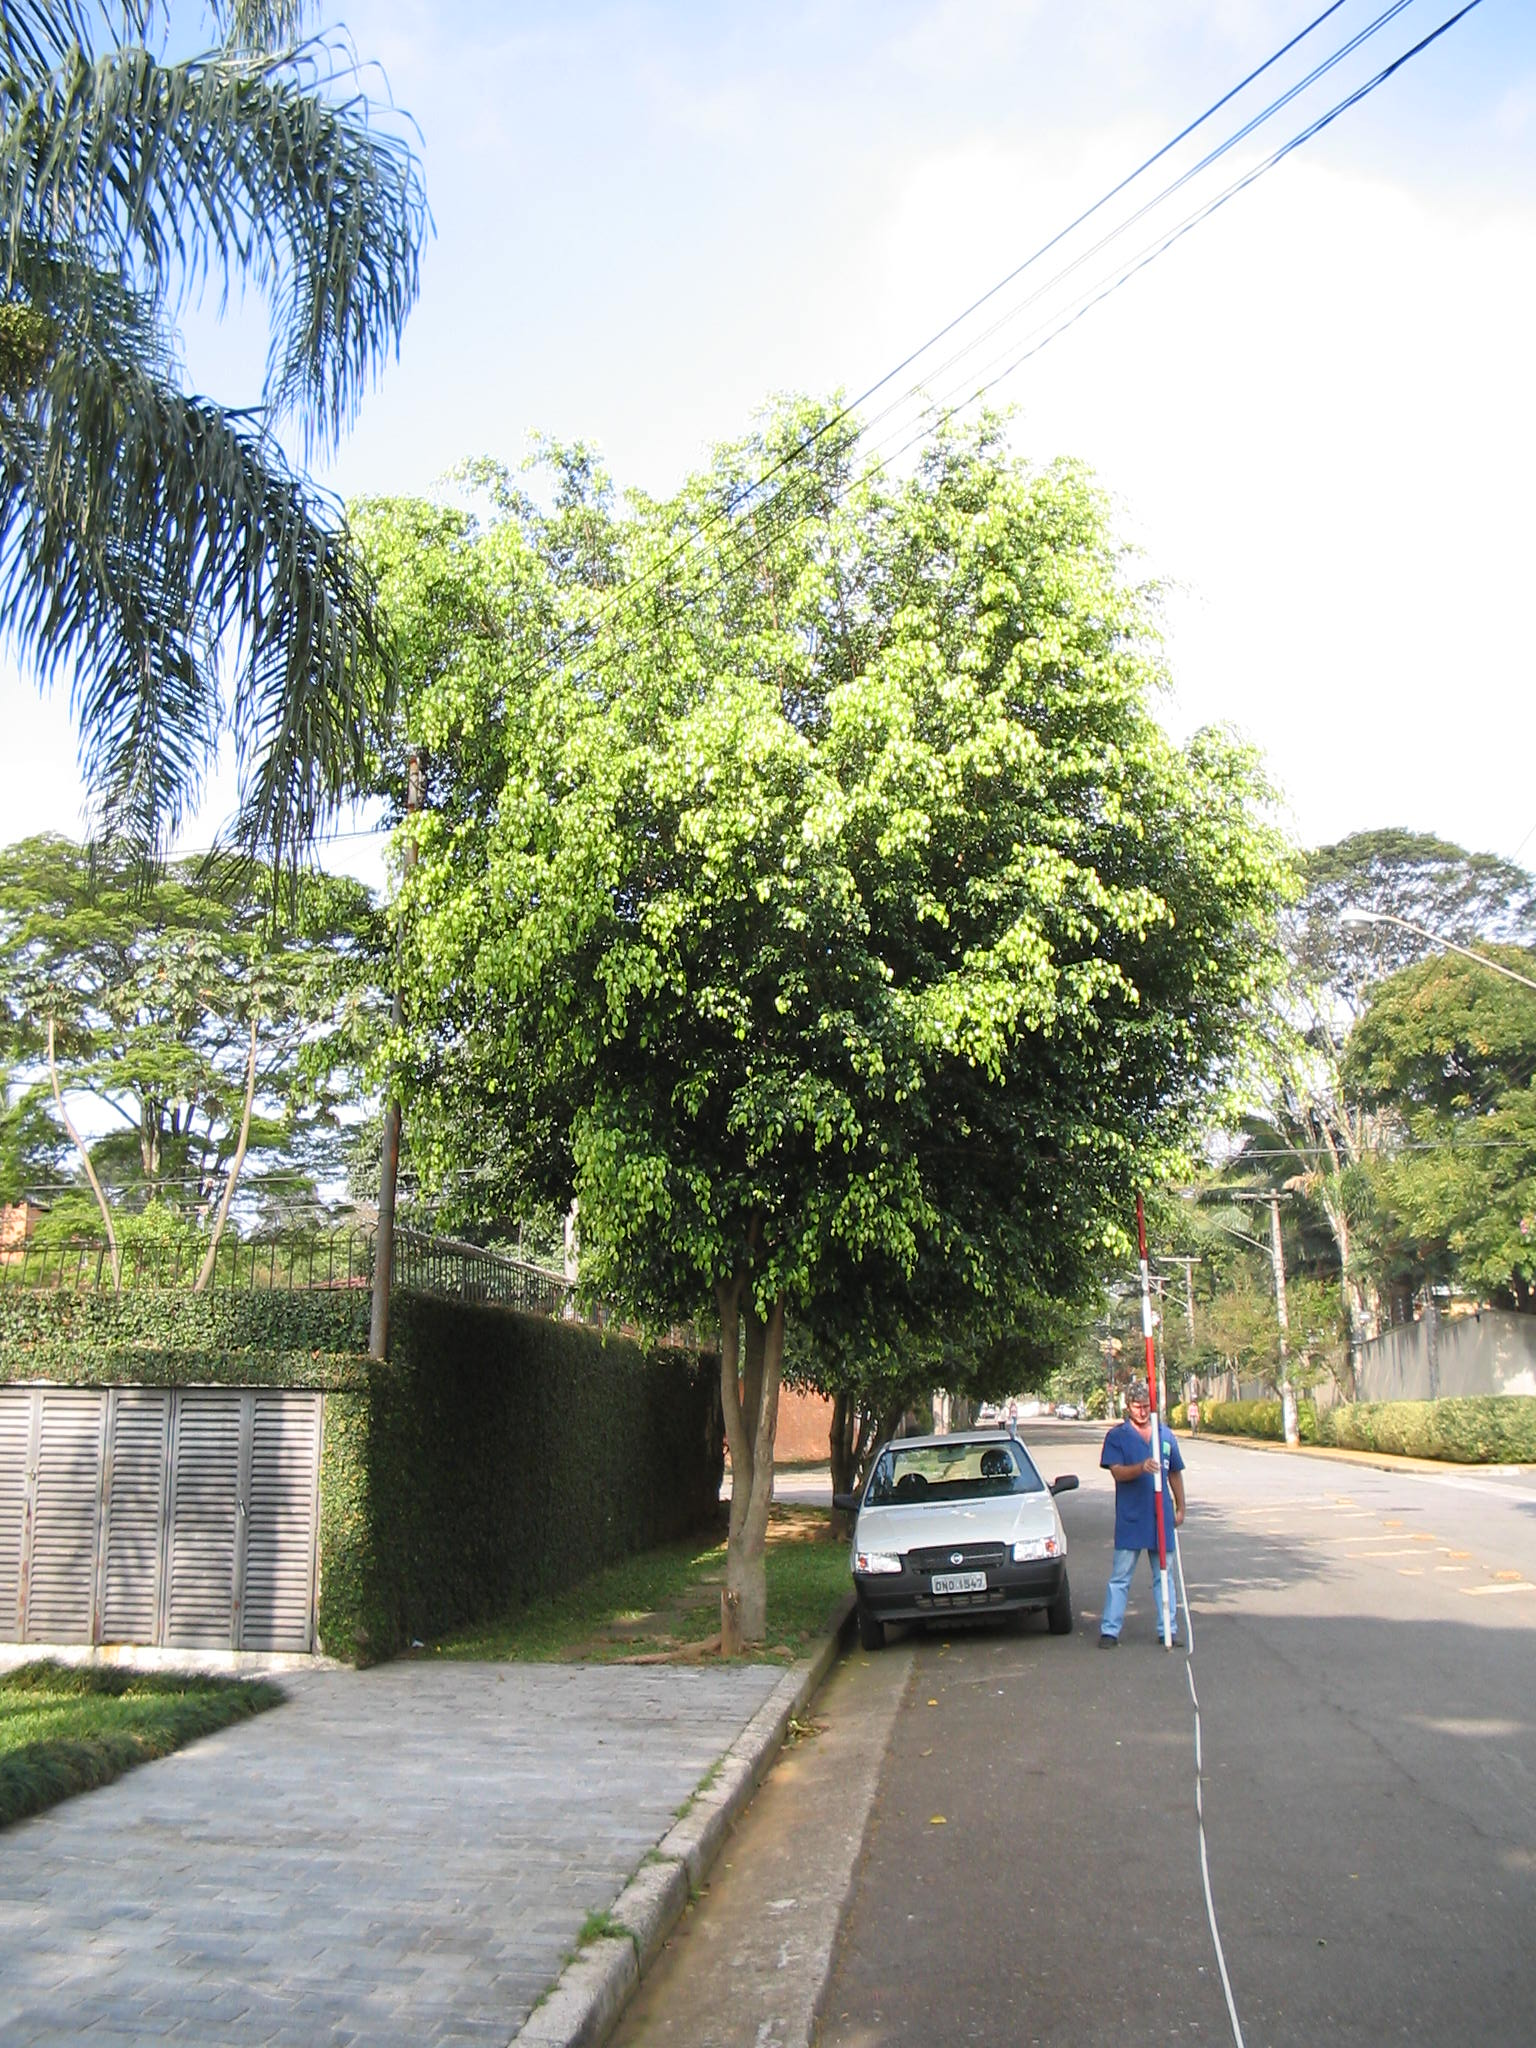crown: (416, 395, 1309, 1337)
stem: (694, 1511, 792, 1634)
stick: (1096, 1197, 1204, 1655)
tree: (415, 392, 1320, 1653)
